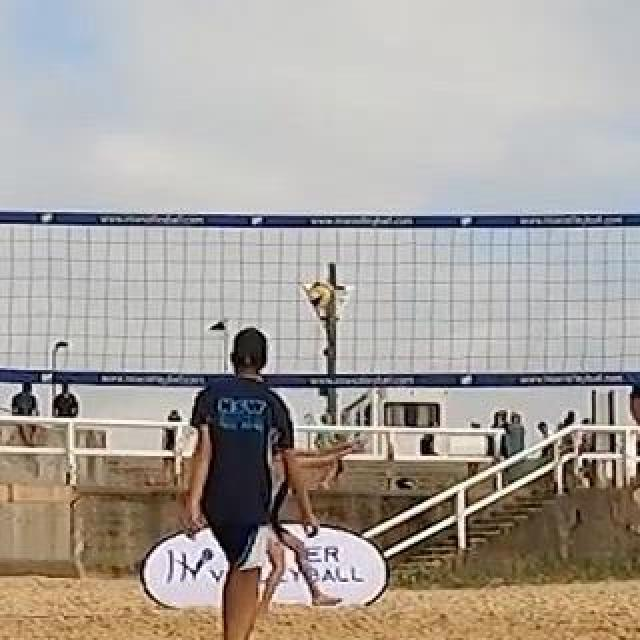volleyball: (311, 282, 335, 308)
